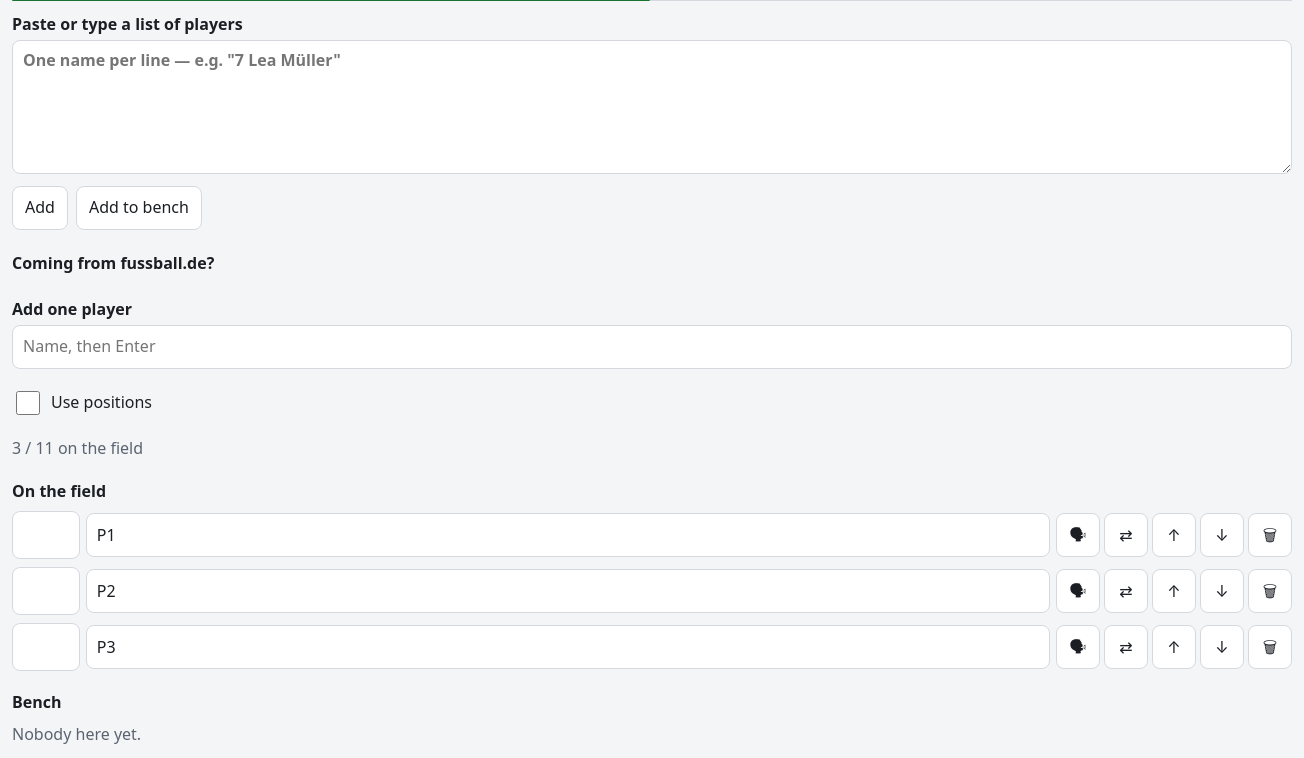
Test: remove asks no confirmation but offers Undo for 5 s
The image size is (1304, 758).
Later steps or results of the test are not shown.
(page scrolled)
Click the button named "Remove: " at (1270, 591), box [1248, 569, 1292, 613]
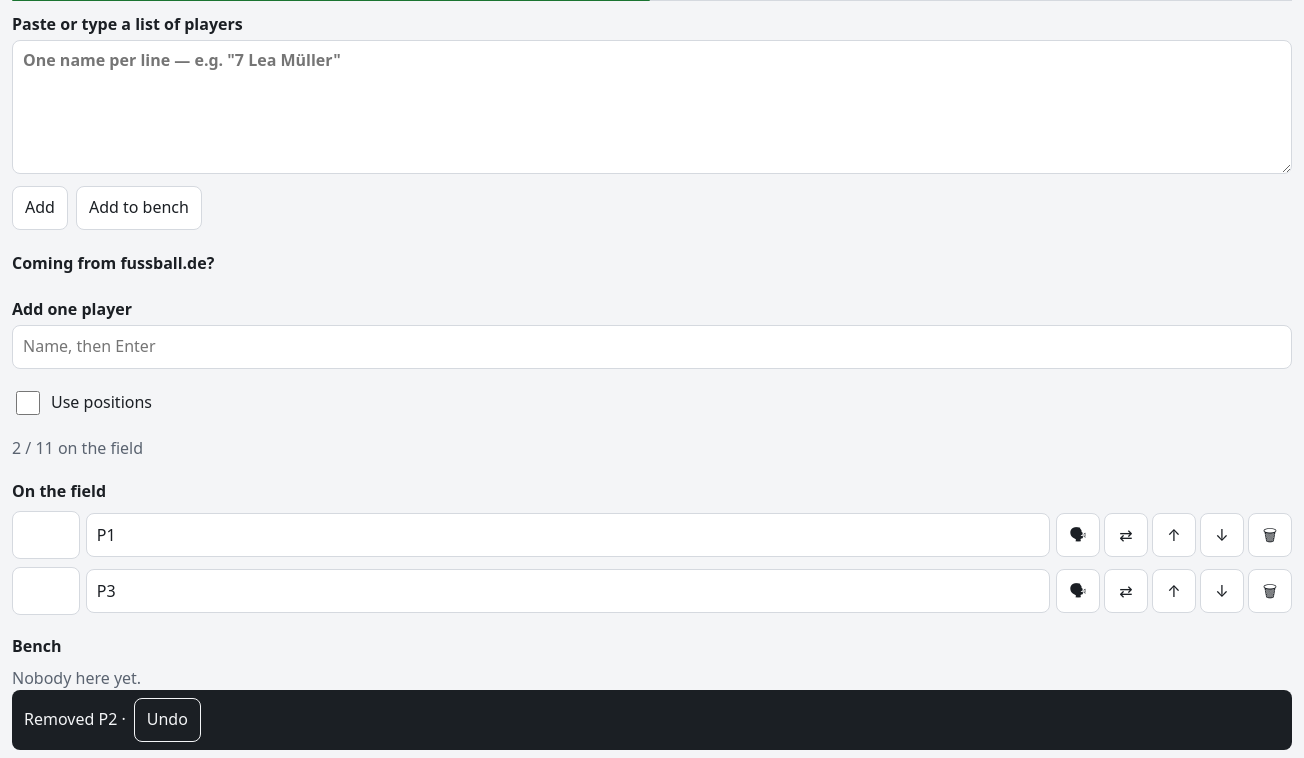
expect the message shows "Removed P2": met, box [24, 708, 117, 730]
